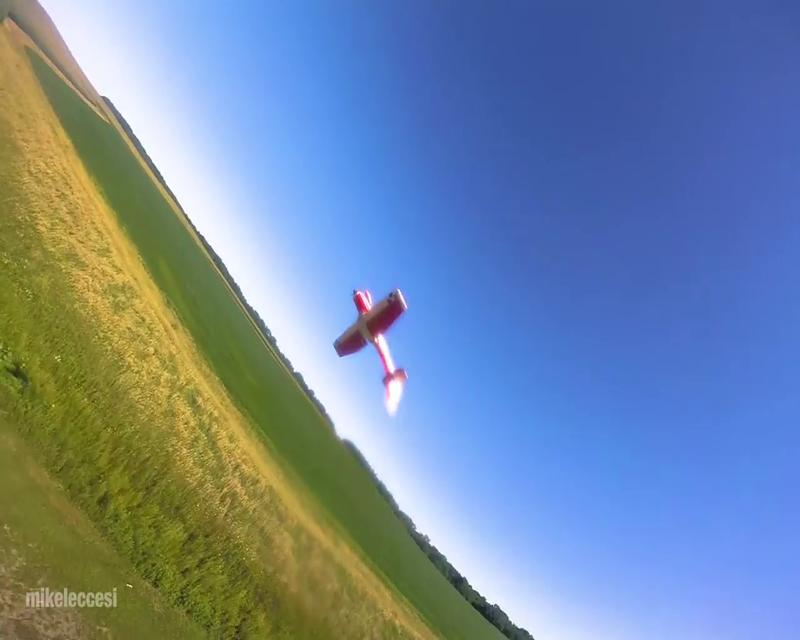UAV: (331, 288, 409, 416)
